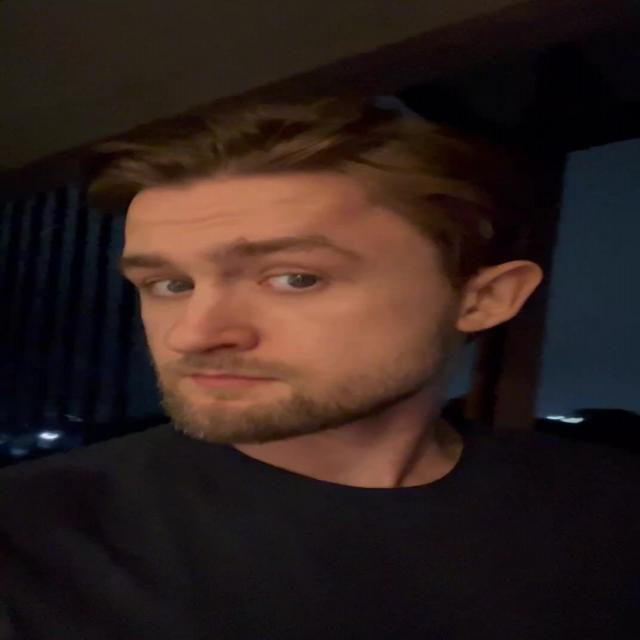earlobe: (456, 311, 491, 334)
eye: (257, 272, 326, 290), (140, 278, 198, 295)
nose: (180, 348, 259, 372)
wholeear: (456, 260, 543, 334)
